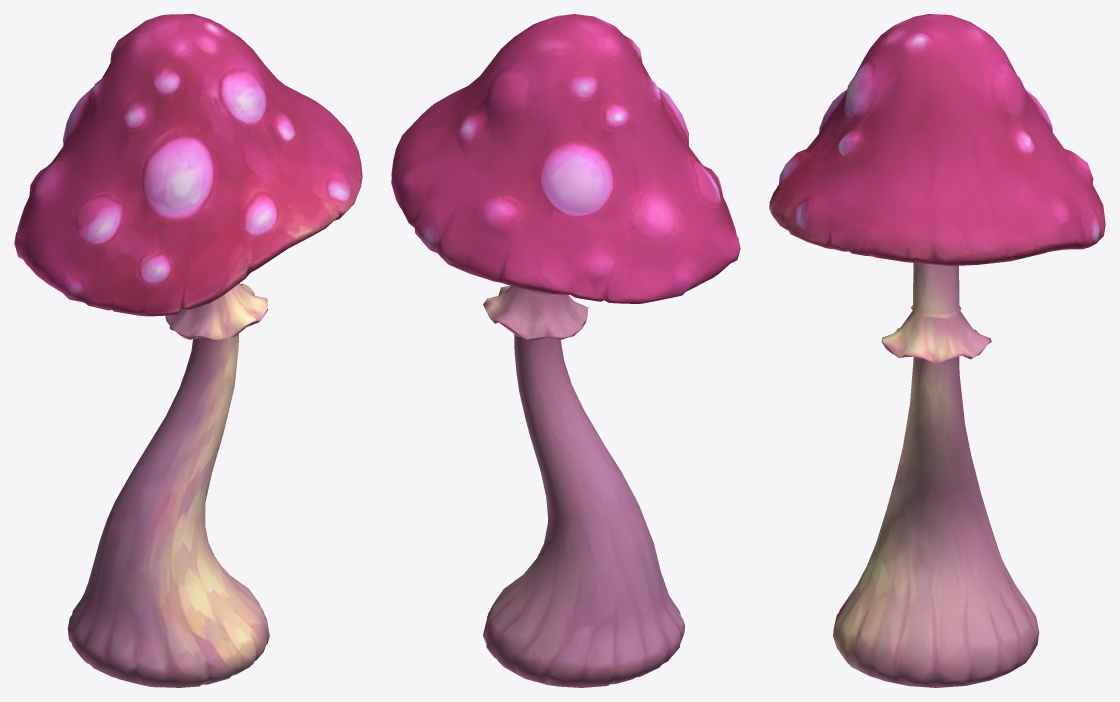
The model's file is mushroom_pink.glb.
3 views of the same model, side by side, from view 1: azimuth 30°, elevation 25°; view 2: azimuth 150°, elevation 25°; view 3: azimuth 270°, elevation 25° (orthographic).
Parts seen in each view (by area): view 1: mushroom_pink; view 2: mushroom_pink; view 3: mushroom_pink.
Boxes of the visible parts, bbox=[...] form: mushroom_pink: bbox=[14, 14, 362, 687]; mushroom_pink: bbox=[391, 14, 740, 687]; mushroom_pink: bbox=[769, 14, 1105, 687].
Bounding box in the file's own units: 4.52 × 9 × 4.26.
1 material, 1 textured.
